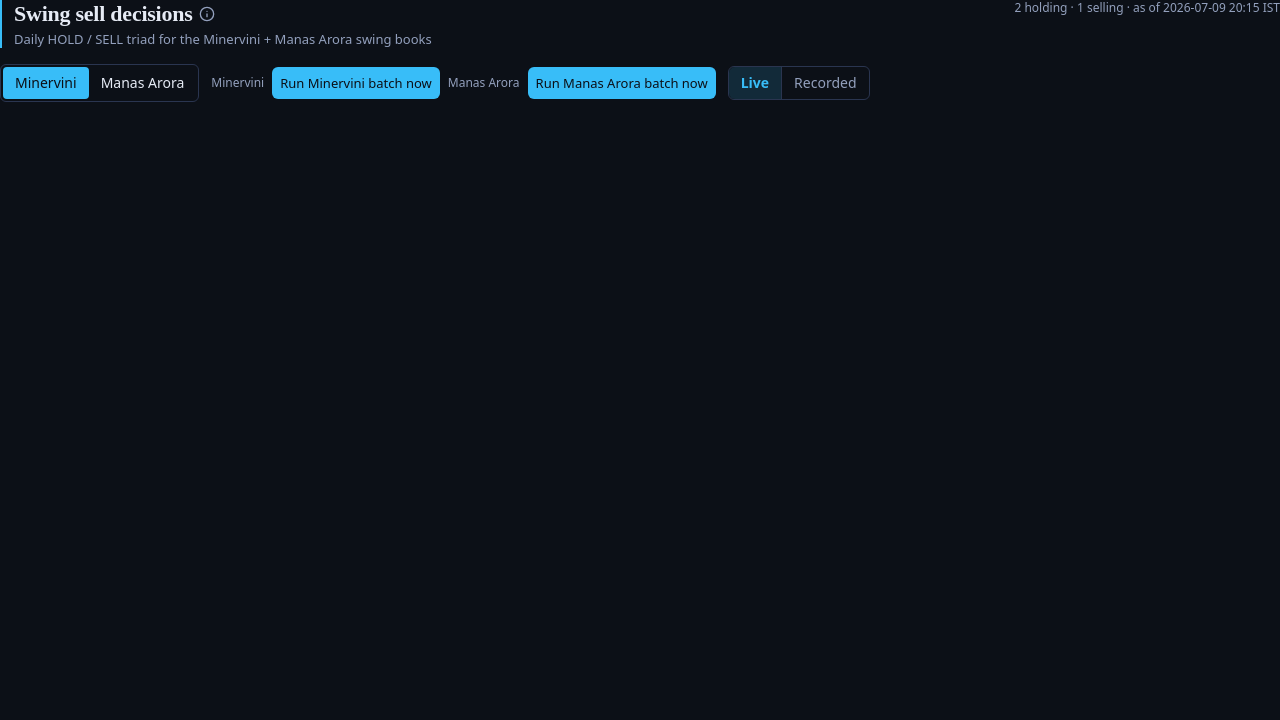
Scenario: SwingSellDecisionsPage › states plainly when the selected family has no catch-up rows
Step 1. Click the button "Run Minervini batch now" → click(356, 83), box [272,67,440,99]
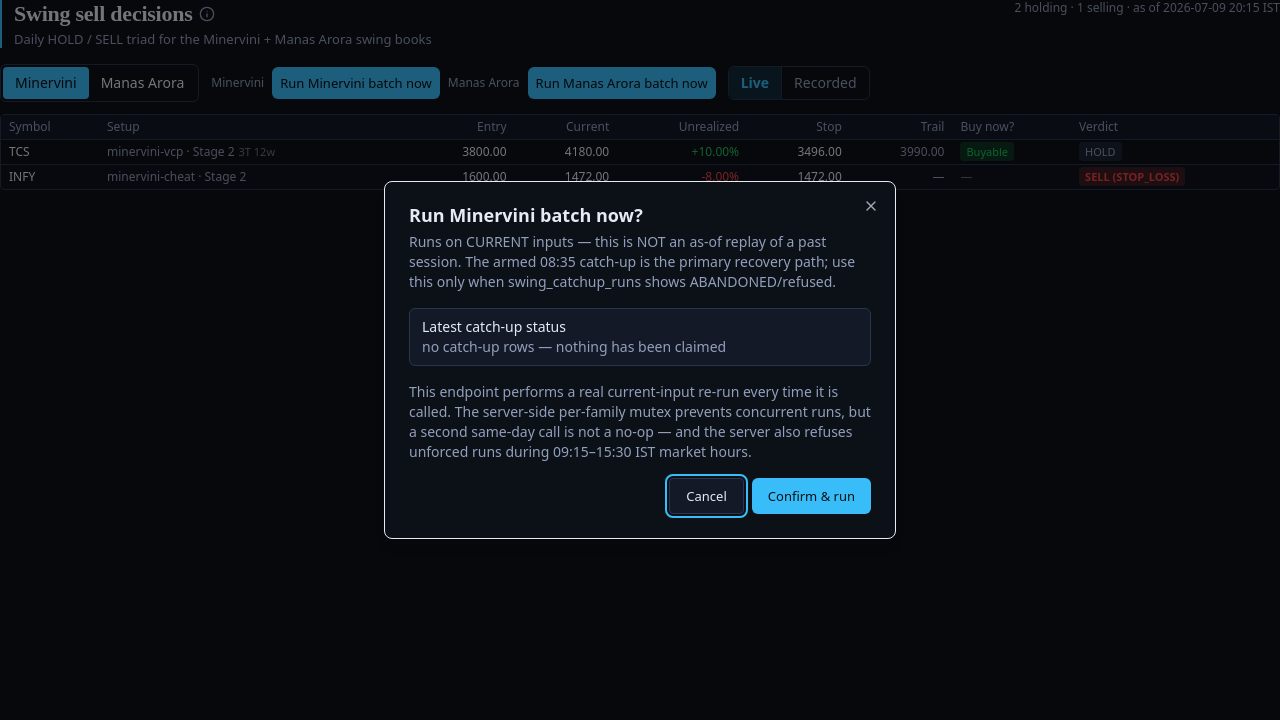
Now the text "no catch-up rows — nothing has been claimed" is shown, box [422,337,726,356]
